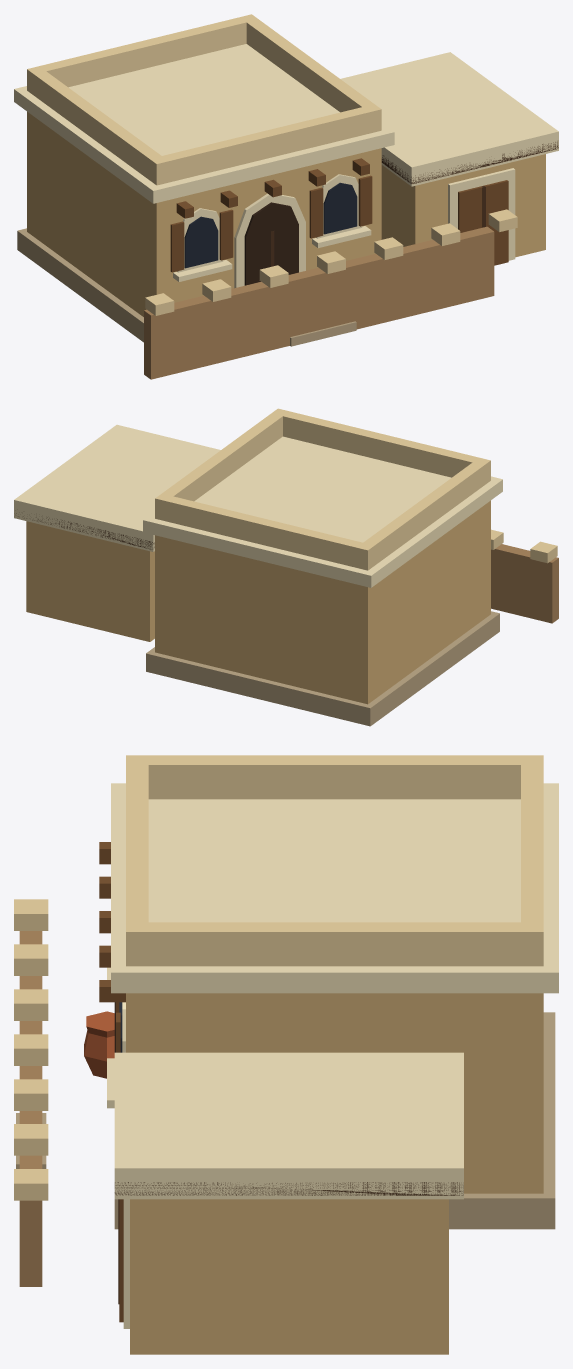
The model's file is house_10_annex_yard.fbx.
3 renders of one model, top to bottom at view 1: azimuth 30°, elevation 25°; view 2: azimuth 150°, elevation 25°; view 3: azimuth 270°, elevation 25°, orthographic. The views are drawn at different scales.
Visible parts, largest first — view 1: house_10_annex_yard; view 2: house_10_annex_yard; view 3: house_10_annex_yard.
Boxes of the visible parts, x1,y1,x2,y2 form: house_10_annex_yard: (14,14,558,379); house_10_annex_yard: (14,408,558,726); house_10_annex_yard: (14,755,558,1354).
Bounding box in the file's own units: 10.7 × 4.25 × 7.17.
1 material, 1 textured.
